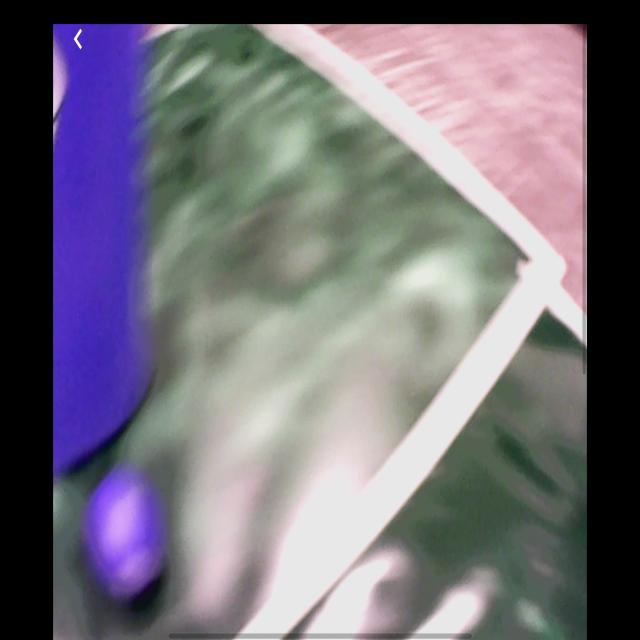ball: (84, 466, 172, 599)
